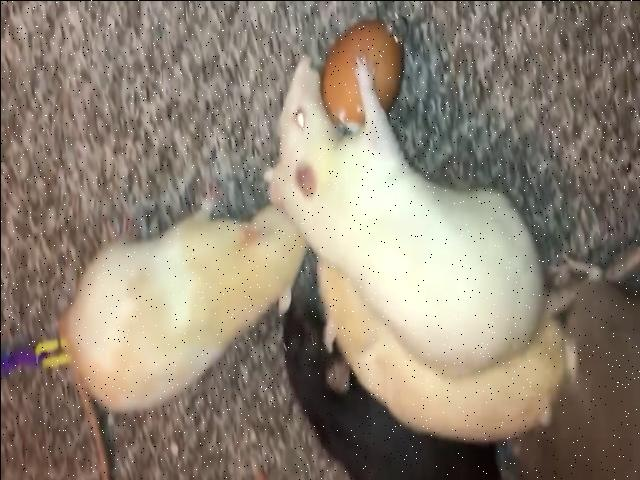Tikus: (283, 52, 532, 364), (53, 206, 298, 396), (282, 302, 426, 474)
